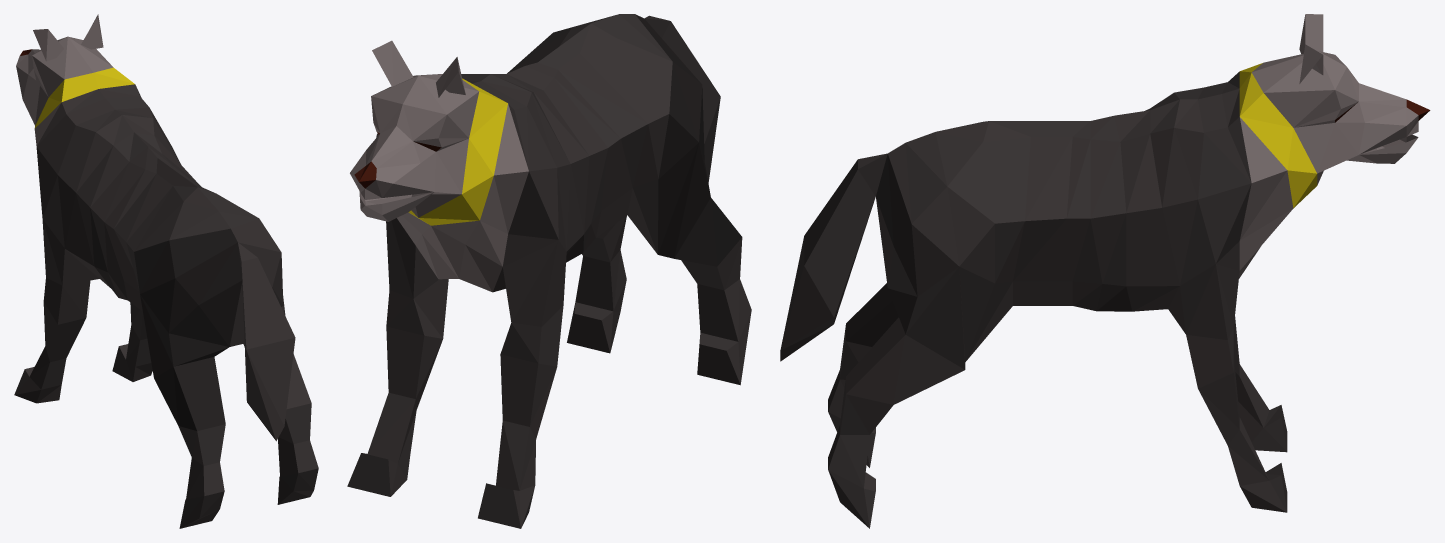
The model's file is npc_world_sinclair_guard_dog_0.obj.
The picture shows the model from 3 angles, left to right: view 1: azimuth 30°, elevation 25°; view 2: azimuth 150°, elevation 25°; view 3: azimuth 270°, elevation 25°; orthographic projection. The views are drawn at different scales.
Bounding box in the file's own units: 0.2656 × 0.6641 × 0.8516.
